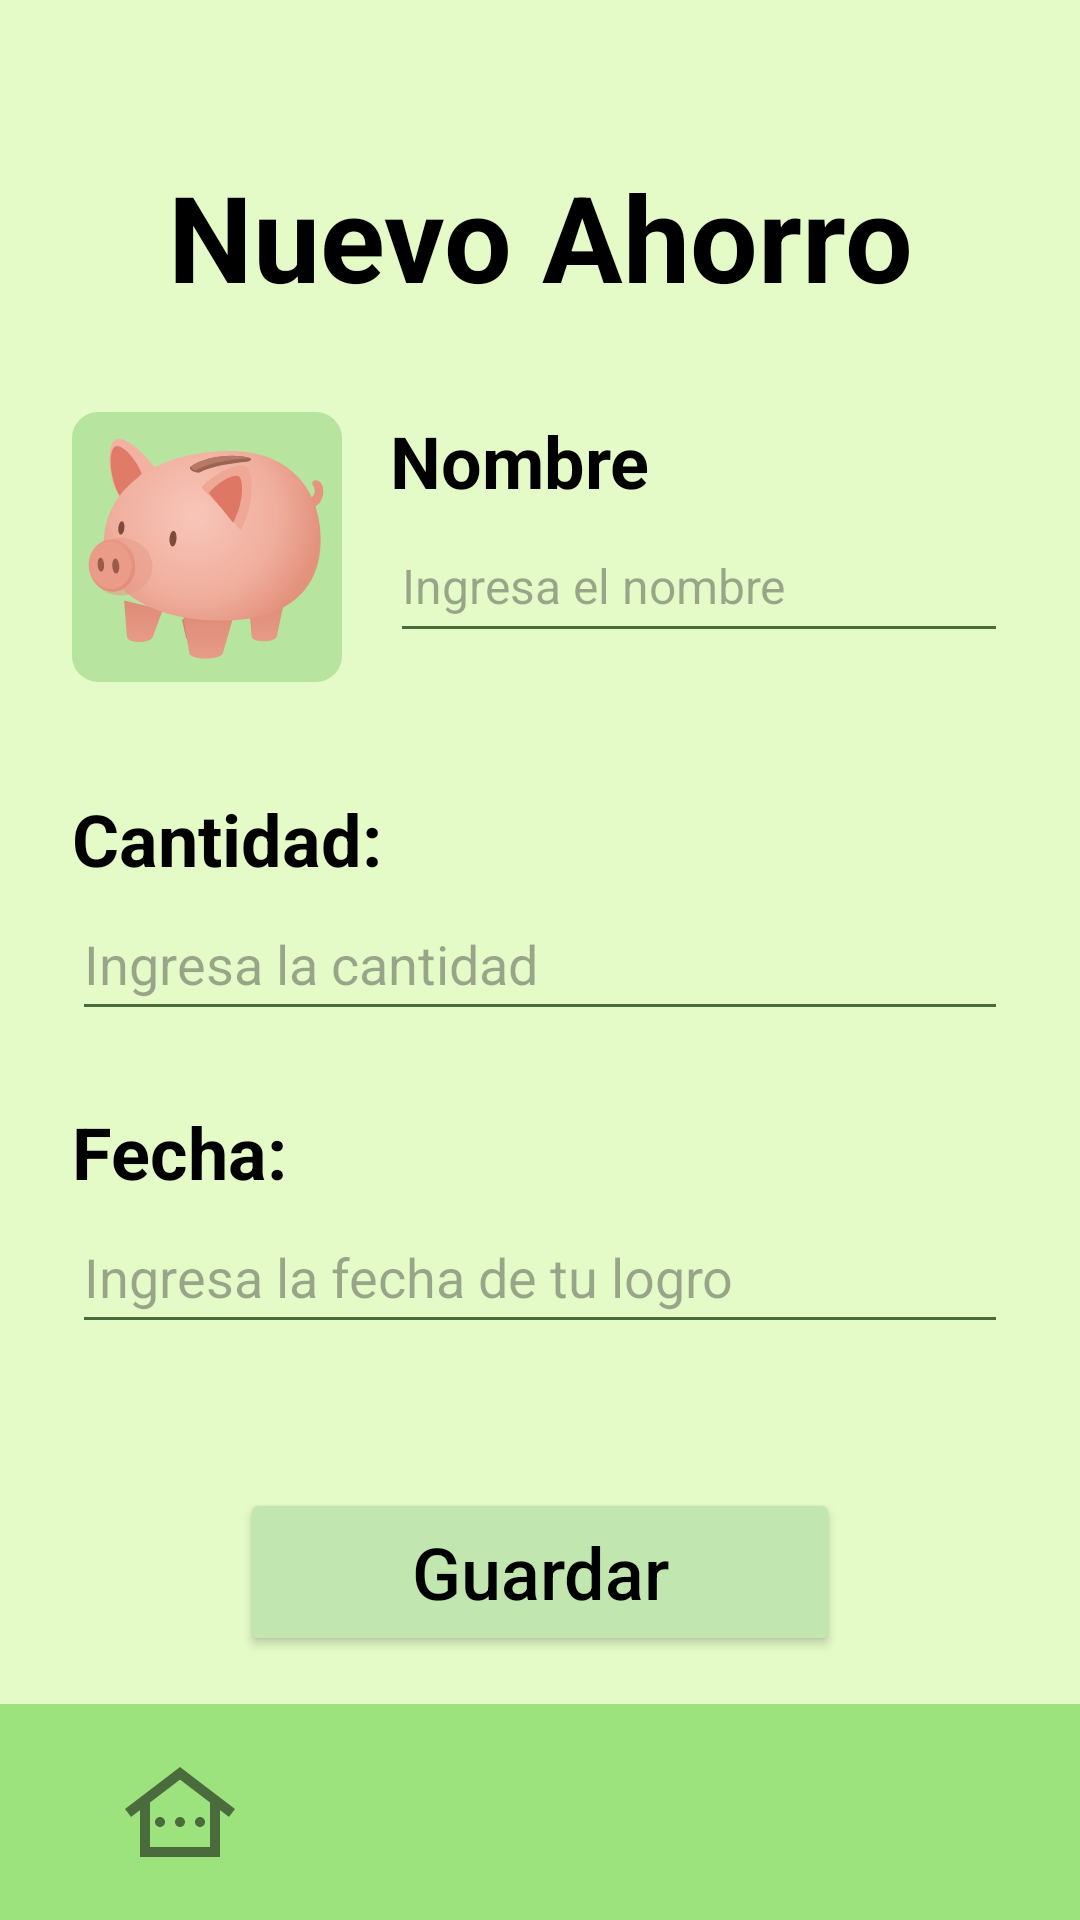

Screen size 1080*1920. Icon name, then its center in pixels as (x,y):
Inicio: (180,1812)
